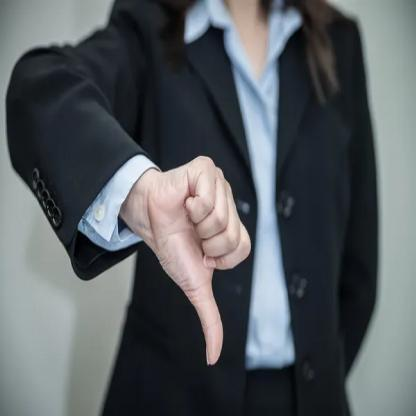thumb_down: (146, 149, 252, 368)
